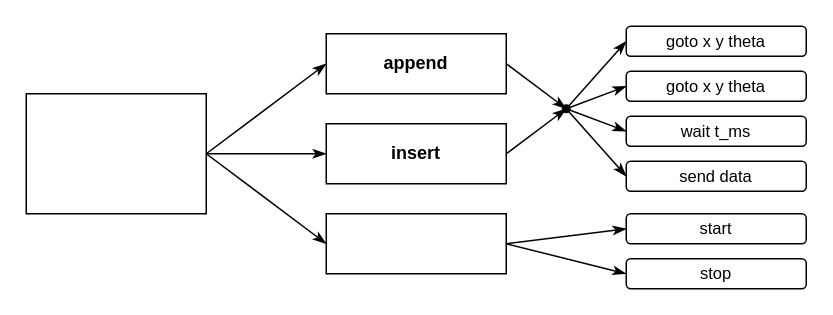
Image size: 833x315. Some labels were removed from this diagram. The shapes that lost their labels are listed below. From the top down, each one's centre as x and y in pixels, then its label:
At (115,153): "task (file de tâches)".
At (415,243): "execution".
